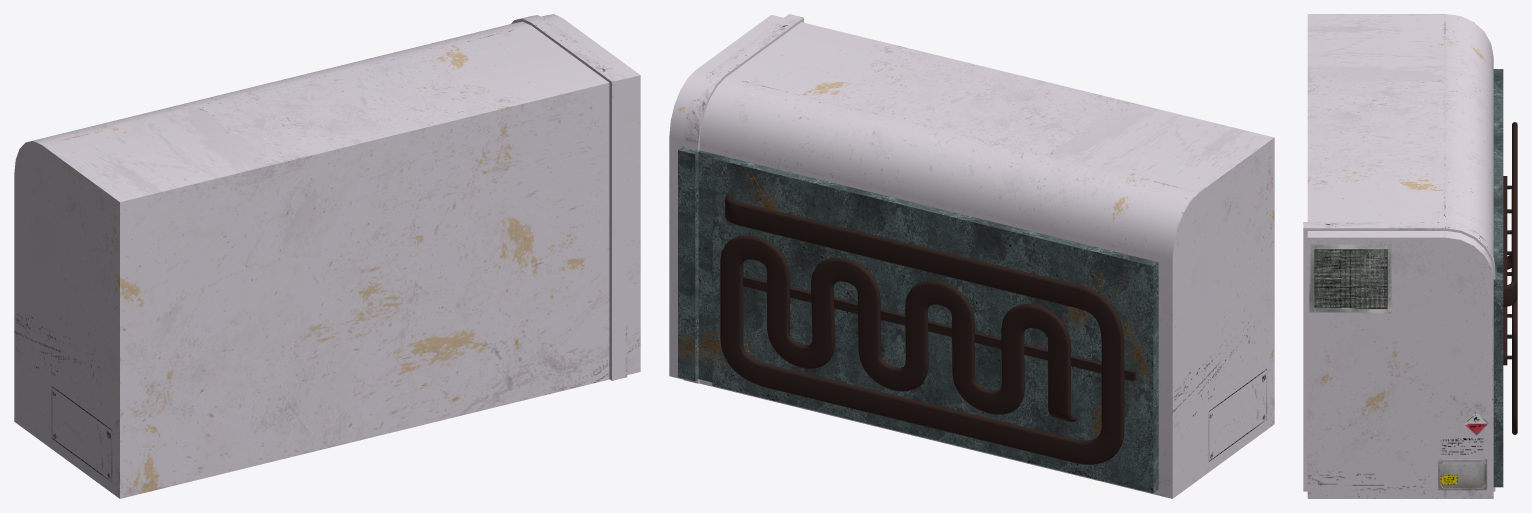
File: heater.fbx
3 views of the same model, side by side, from view 1: azimuth 30°, elevation 25°; view 2: azimuth 150°, elevation 25°; view 3: azimuth 270°, elevation 25° (orthographic). The views are drawn at different scales.
Parts seen in each view (by area): view 1: heater; view 2: heater; view 3: heater.
Boxes of the visible parts, x1,y1,x2,y2 form: heater: (14,14,640,498); heater: (669,14,1274,498); heater: (1303,14,1517,498).
Size of the model in its own units: 183 by 101 by 74.24.
